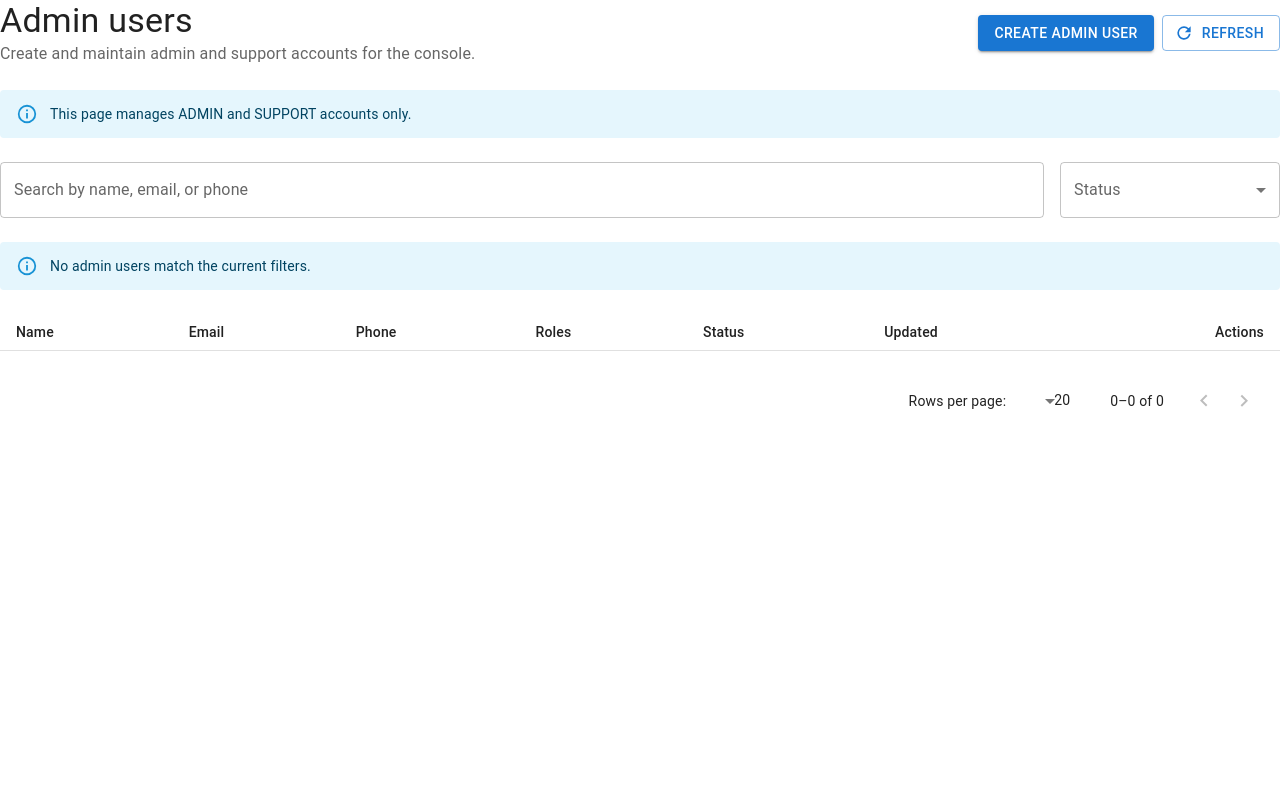
Test: AdminUsersPage › keeps unsaved create values when editing continues and returns to the list after discard
Click the button "Create admin user" at (1066, 33), box [978,15,1154,51]
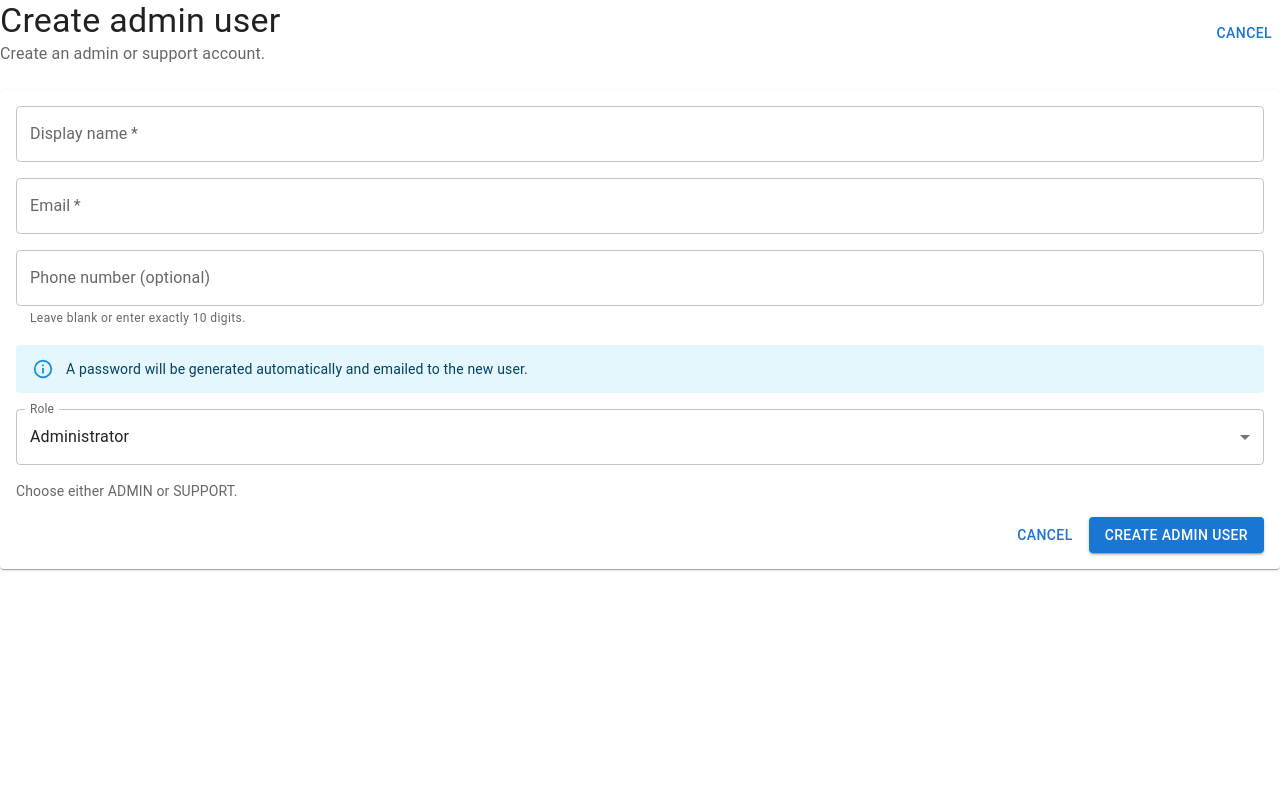
Type "Draft account" into the field labelled "Display name *" at (640, 134), box [16,106,1264,162]
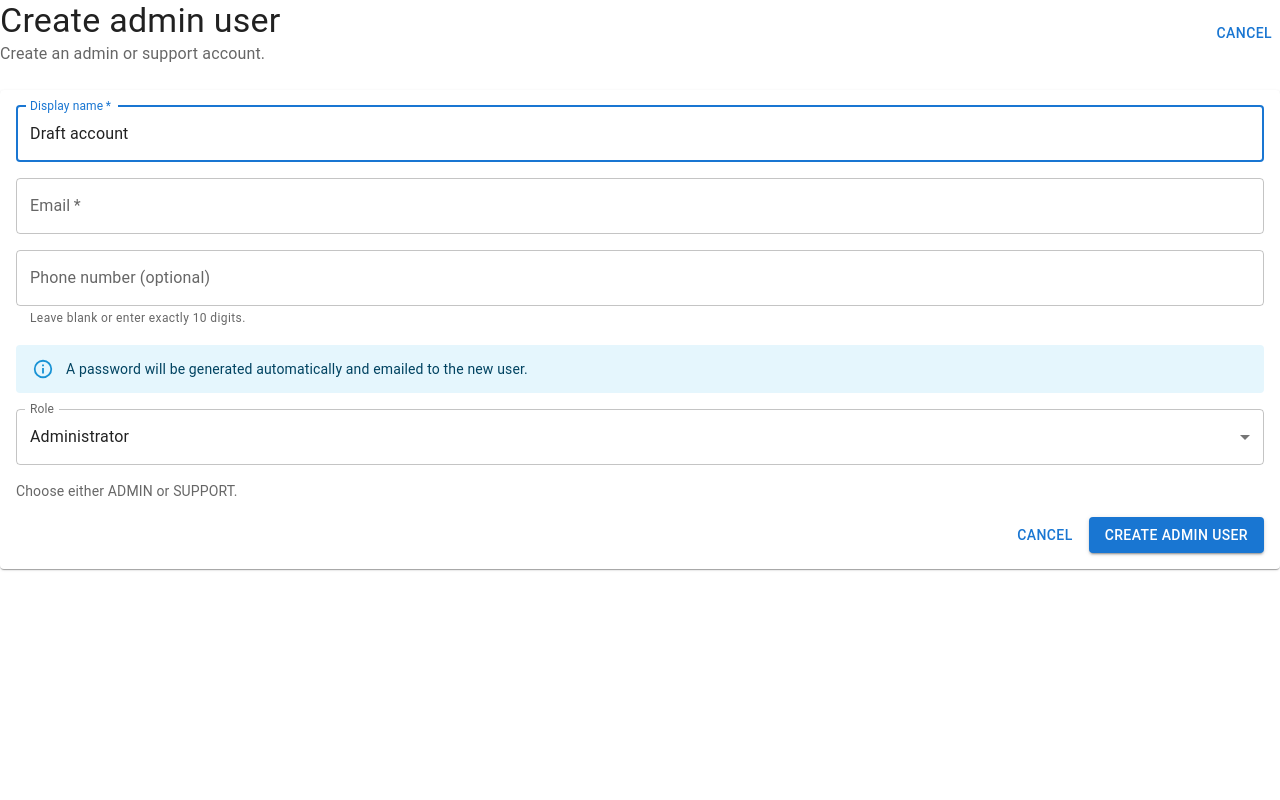
Click the button "Cancel" in the row of "Create an admin or support account." at (1244, 33), box [1208,15,1279,51]
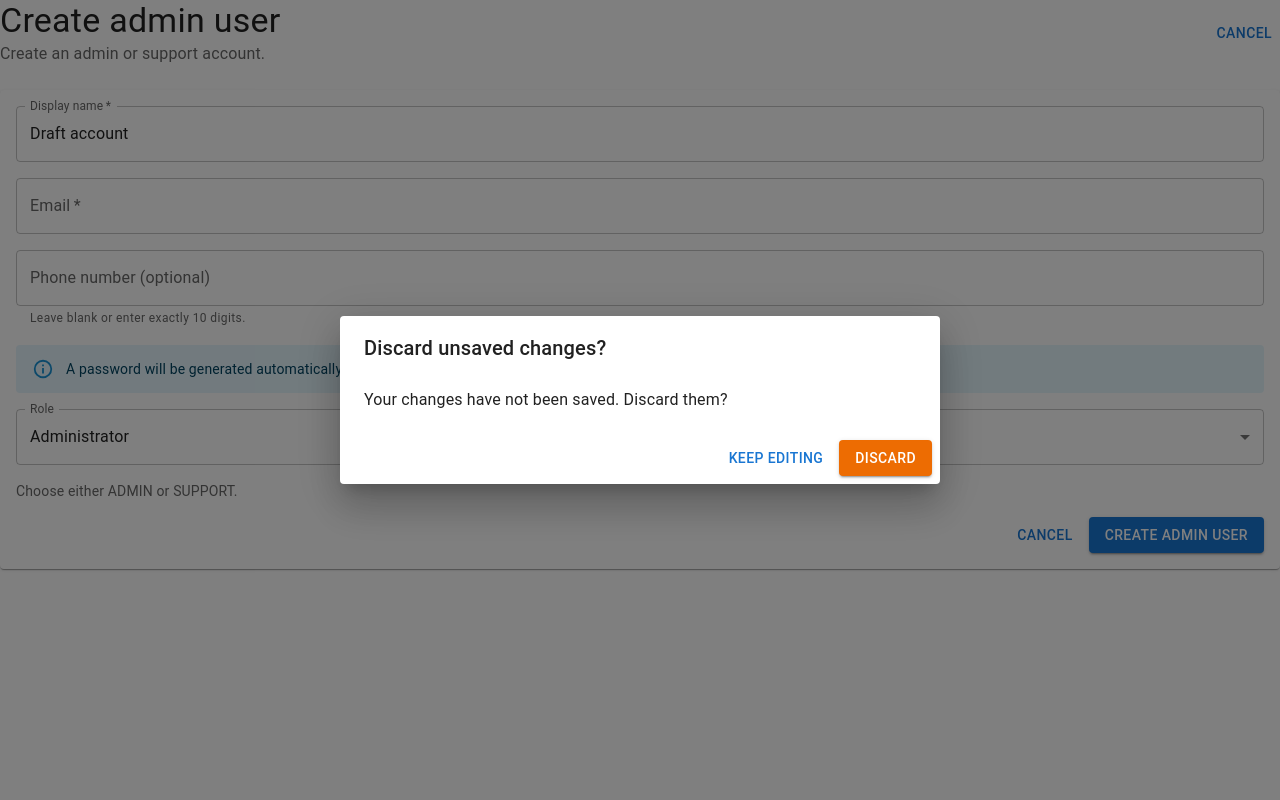
Click the button "Keep editing" at (776, 458), box [721,440,831,476]
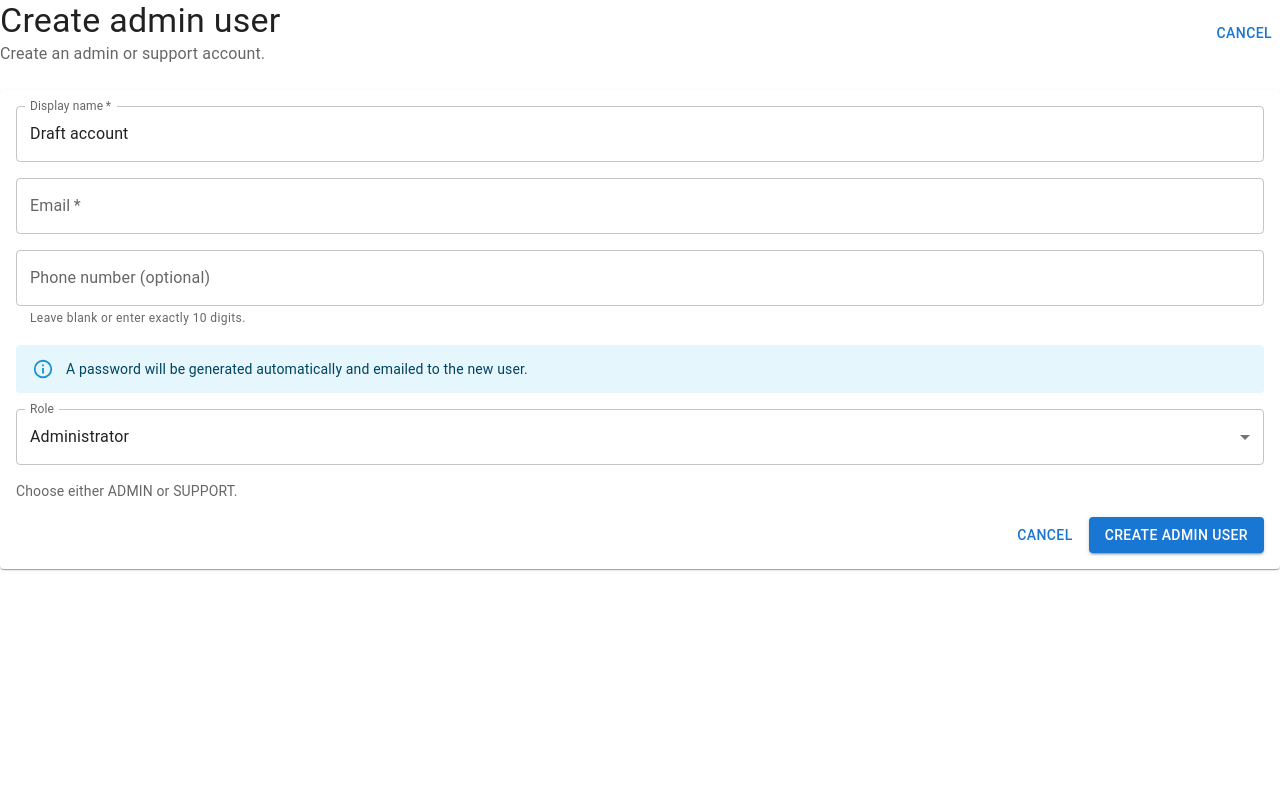
Click the button "Cancel" in the row of "Create an admin or support account." at (1244, 33), box [1208,15,1279,51]
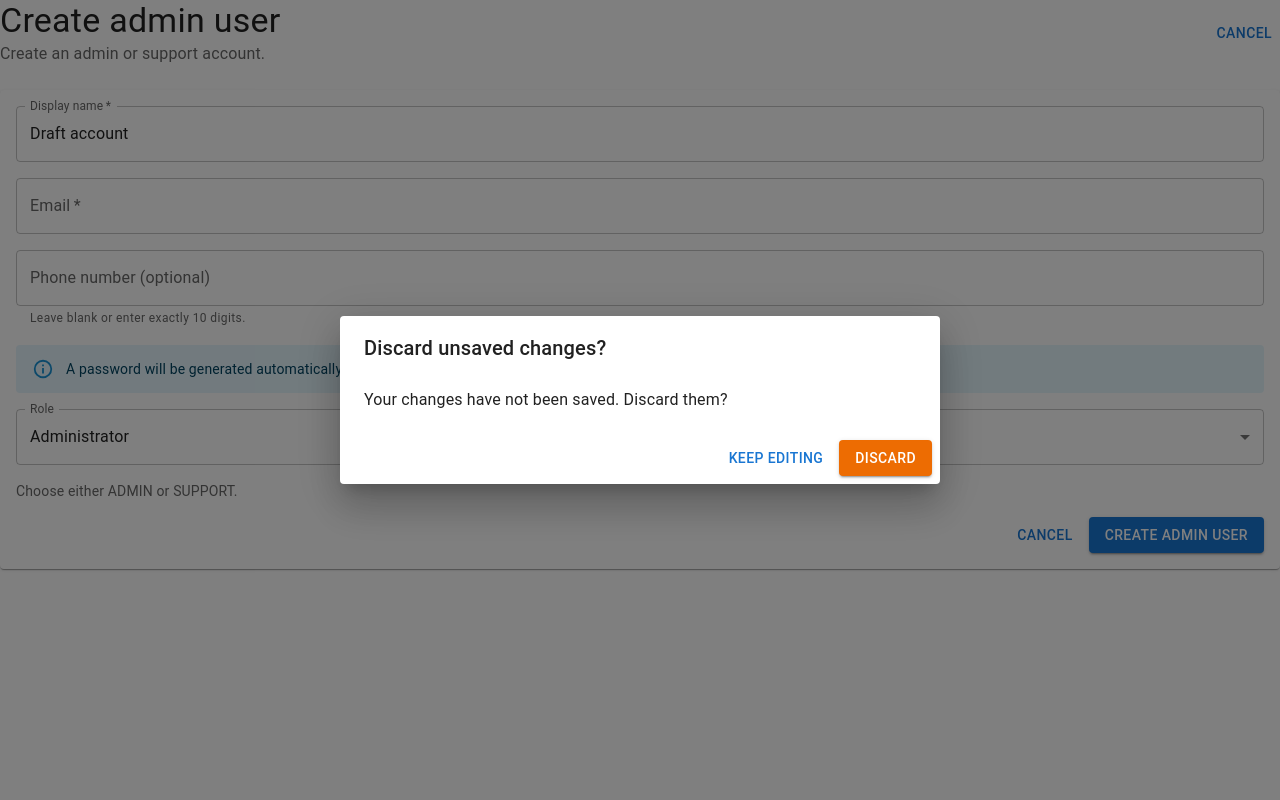
Click the button "Discard" at (886, 458), box [839,440,932,476]
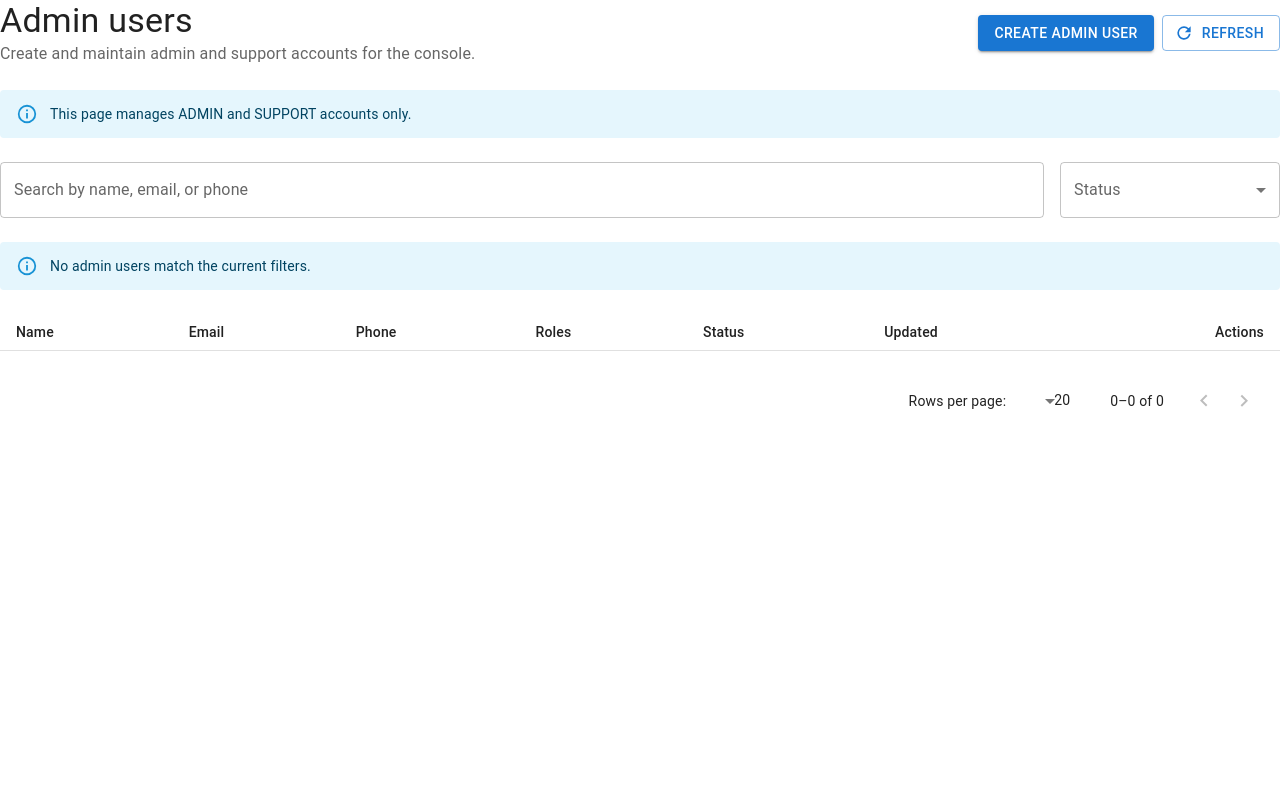
Result: the text "No admin users match the current filters." is shown at [50,258,311,274]
